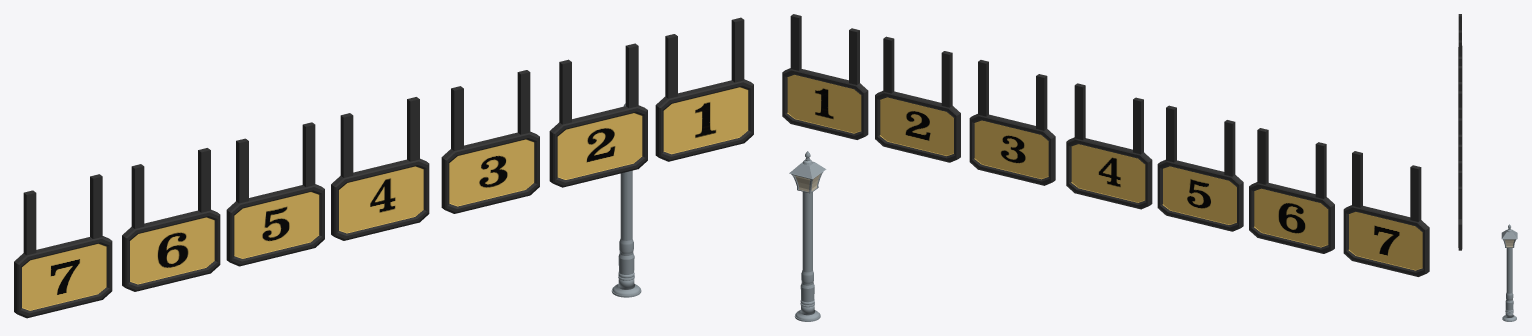
The model's file is aisleNlamp.fbx.
3 views of the same model, side by side, from view 1: azimuth 30°, elevation 25°; view 2: azimuth 150°, elevation 25°; view 3: azimuth 270°, elevation 25° (orthographic). The views are drawn at different scales.
Visible parts, largest first — view 1: OSprop_signage2, OSprop_signage4, OSprop_signage5, OSprop_signage7, OSprop_signage6, OSprop_signage9, OSprop_signage8, lamp1; view 2: OSprop_signage4, OSprop_signage6, OSprop_signage8, OSprop_signage5, OSprop_signage7, OSprop_signage2, OSprop_signage9, lamp1; view 3: lamp1, OSprop_signage2, OSprop_signage6, OSprop_signage5, OSprop_signage4, OSprop_signage9, OSprop_signage8, OSprop_signage7.
Part boxes in pixels (x1,y1,x2,y2): OSprop_signage2: (655,17,753,161); OSprop_signage4: (549,43,647,187); OSprop_signage5: (441,70,539,213); OSprop_signage7: (226,122,324,266); OSprop_signage6: (331,97,429,240); OSprop_signage9: (14,174,112,318); OSprop_signage8: (122,148,220,291); lamp1: (611,103,641,297); OSprop_signage4: (875,36,960,162); OSprop_signage6: (1066,83,1152,209); OSprop_signage8: (1249,128,1334,253); OSprop_signage5: (969,60,1055,185); OSprop_signage7: (1157,105,1243,231); OSprop_signage2: (782,14,868,139); OSprop_signage9: (1343,151,1429,276); lamp1: (789,151,826,321); lamp1: (1501,224,1517,321); OSprop_signage2: (1458,170,1462,250); OSprop_signage6: (1458,91,1462,150); OSprop_signage5: (1458,118,1462,177); OSprop_signage4: (1458,144,1462,203); OSprop_signage9: (1458,14,1462,72); OSprop_signage8: (1458,40,1462,98); OSprop_signage7: (1458,66,1462,123).
Size of the model in its own units: 1368 by 518 by 190.
